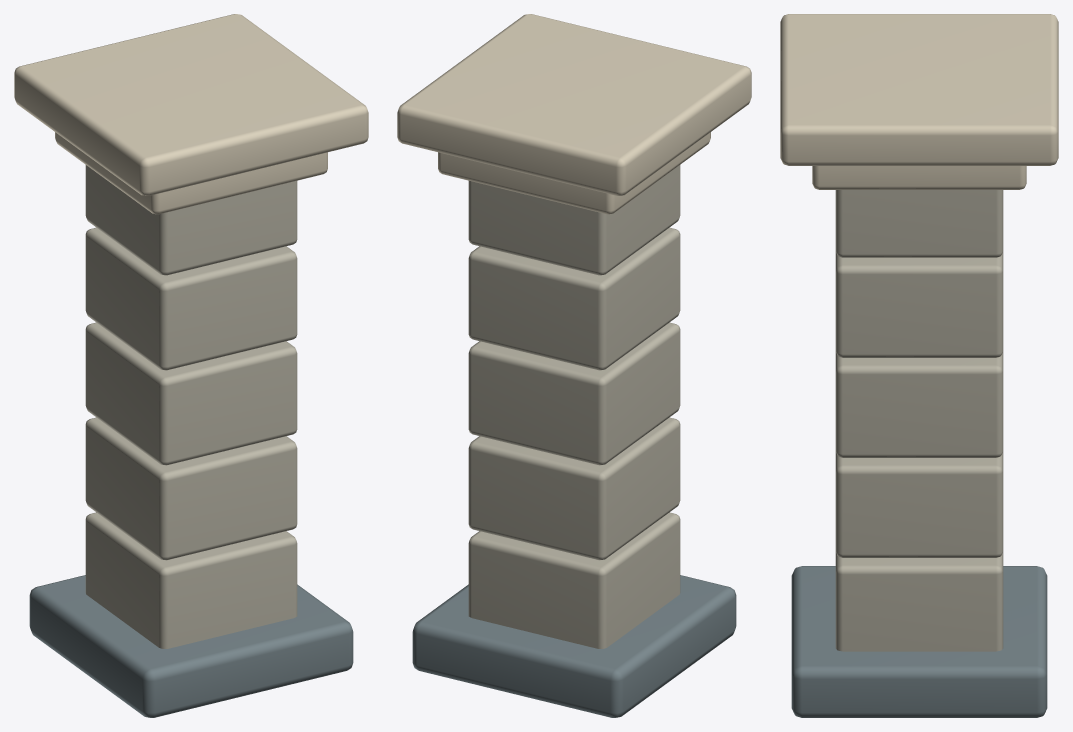
File: SM_Pillar_Stone_3m.fbx
The picture shows the model from 3 angles, left to right: view 1: azimuth 30°, elevation 25°; view 2: azimuth 150°, elevation 25°; view 3: azimuth 270°, elevation 25°; orthographic projection. The views are drawn at different scales.
Parts seen in each view (by area): view 1: SM_Pillar_Stone_3m; view 2: SM_Pillar_Stone_3m; view 3: SM_Pillar_Stone_3m.
Part boxes in pixels (left/top/right/bottom): SM_Pillar_Stone_3m: left=14, top=14, right=368, bottom=717; SM_Pillar_Stone_3m: left=397, top=14, right=751, bottom=717; SM_Pillar_Stone_3m: left=780, top=14, right=1058, bottom=717.
Bounding box in the file's own units: 1.36 × 3.23 × 1.36.
